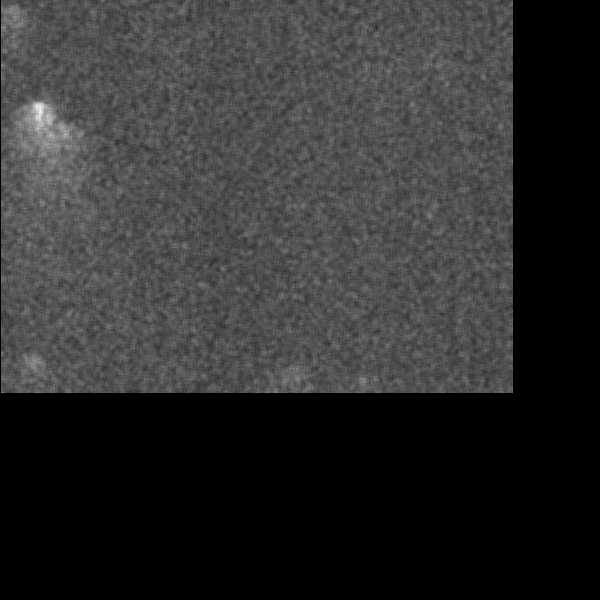spark: (489, 244, 517, 355), (278, 70, 334, 103)
